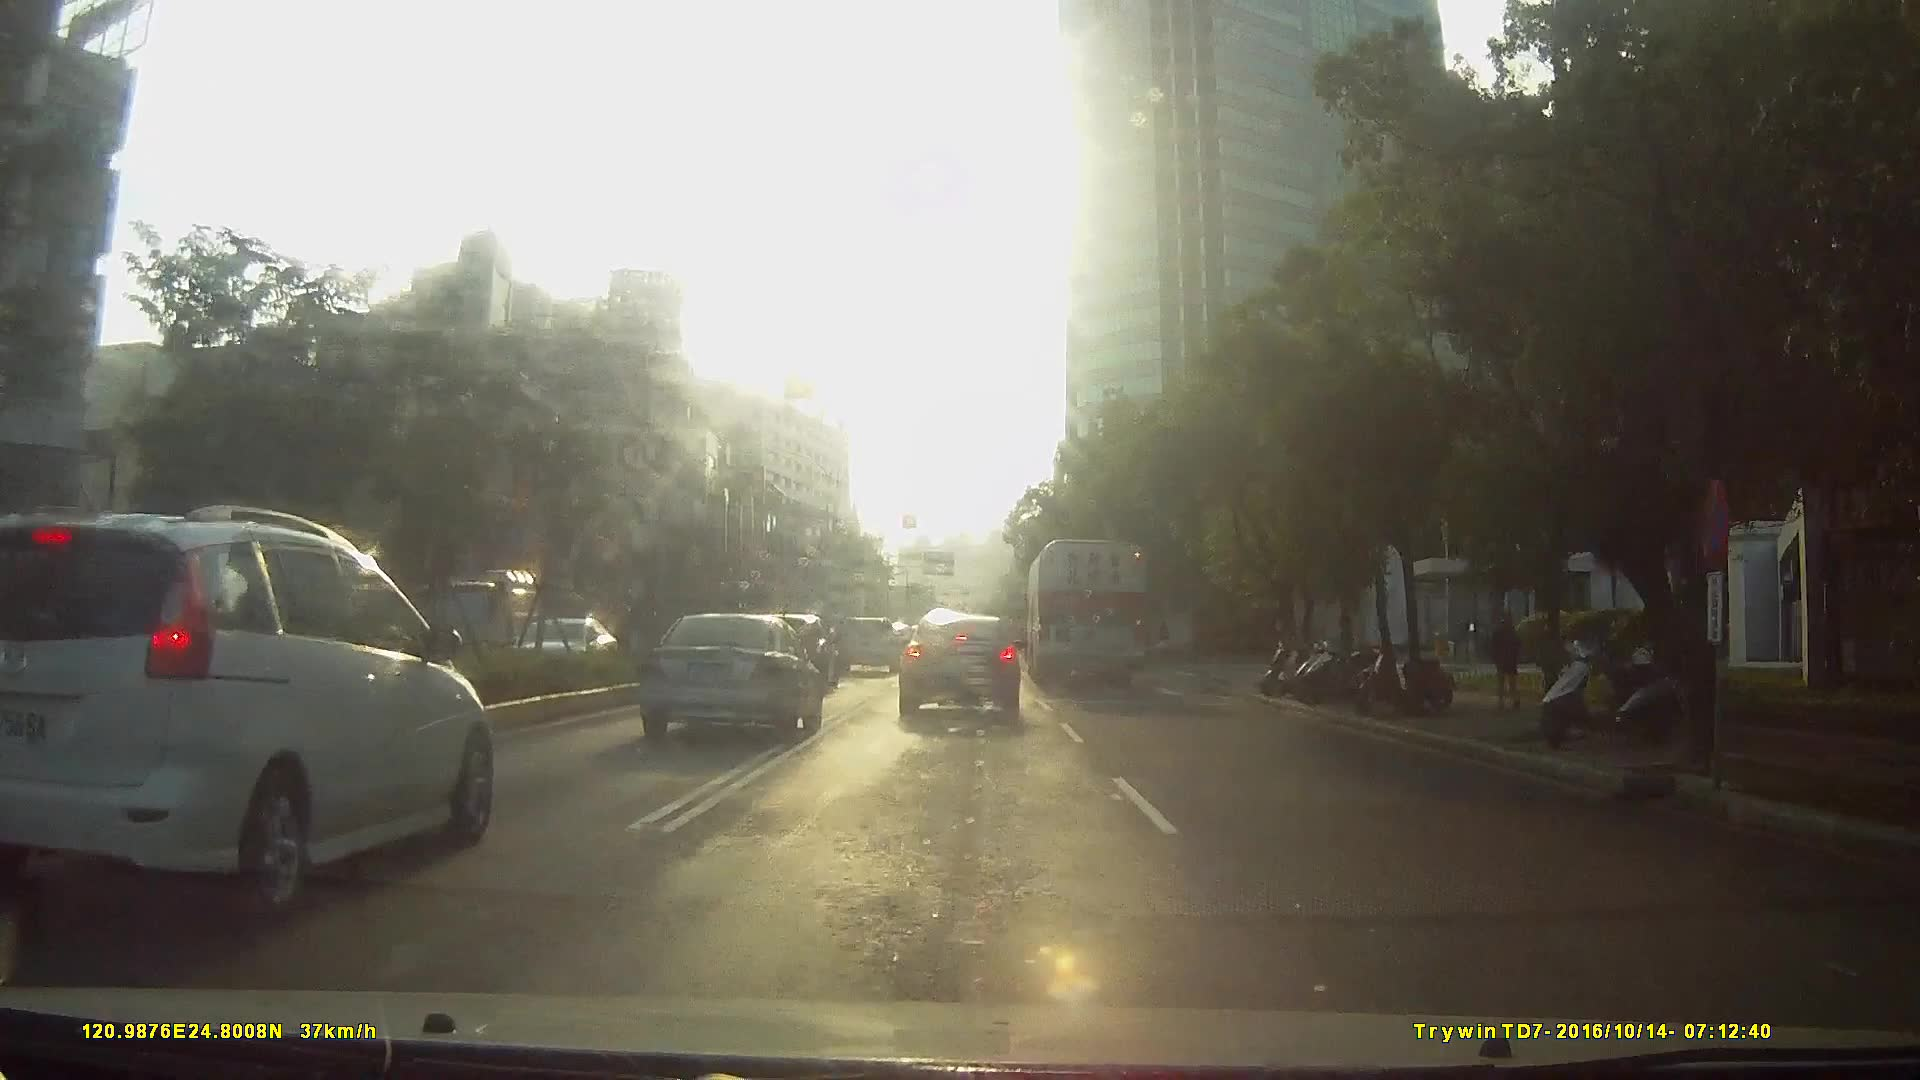pedestrian: (1488, 608, 1529, 710)
vehicle: (23, 487, 493, 936), (250, 556, 684, 868), (628, 607, 818, 742), (1022, 534, 1147, 691), (894, 608, 1023, 721), (396, 560, 521, 660), (513, 613, 622, 680), (830, 612, 898, 671)
